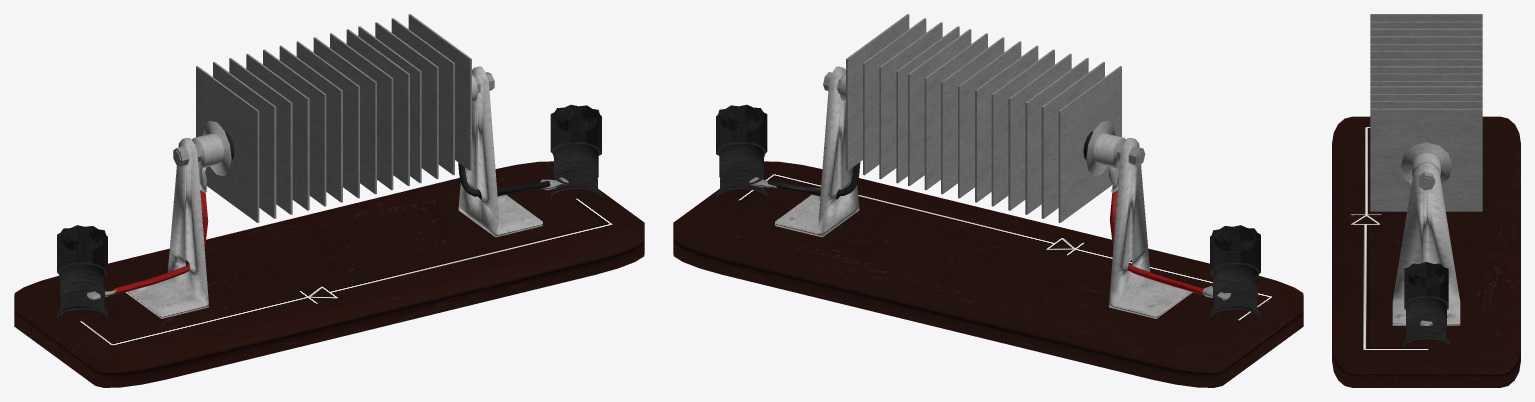
The model's file is aukstavoltis_diodas.glb.
The picture shows the model from 3 angles, left to right: view 1: azimuth 30°, elevation 25°; view 2: azimuth 150°, elevation 25°; view 3: azimuth 270°, elevation 25°; orthographic projection. The views are drawn at different scales.
Parts seen in each view (by area): view 1: Cube; view 2: Cube; view 3: Cube.
Boxes of the visible parts, x1,y1,x2,y2 form: Cube: (14, 14, 644, 387); Cube: (673, 14, 1303, 387); Cube: (1332, 14, 1520, 387).
Size of the model in its own units: 1.92 by 0.7525 by 0.6254.
5 materials, 5 textured.
